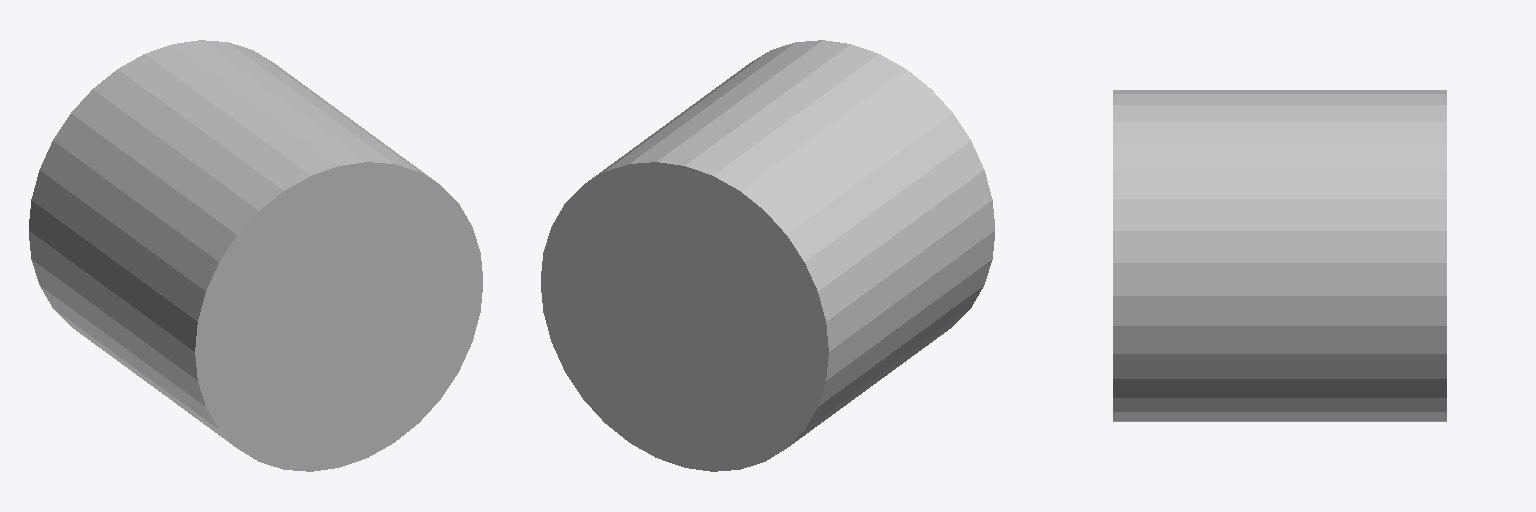
The model's file is cylinder_short.obj.
The picture shows the model from 3 angles: view 1: azimuth 30°, elevation 25°; view 2: azimuth 150°, elevation 25°; view 3: azimuth 270°, elevation 25°; orthographic projection.
Visible parts, largest first — view 1: peg_cylinder_short; view 2: peg_cylinder_short; view 3: peg_cylinder_short.
Part boxes in pixels (left/top/right/bottom): peg_cylinder_short: left=29, top=40, right=482, bottom=471; peg_cylinder_short: left=541, top=40, right=994, bottom=471; peg_cylinder_short: left=1113, top=90, right=1446, bottom=421.
Bounding box in the file's own units: 0.02 × 0.02 × 0.02.